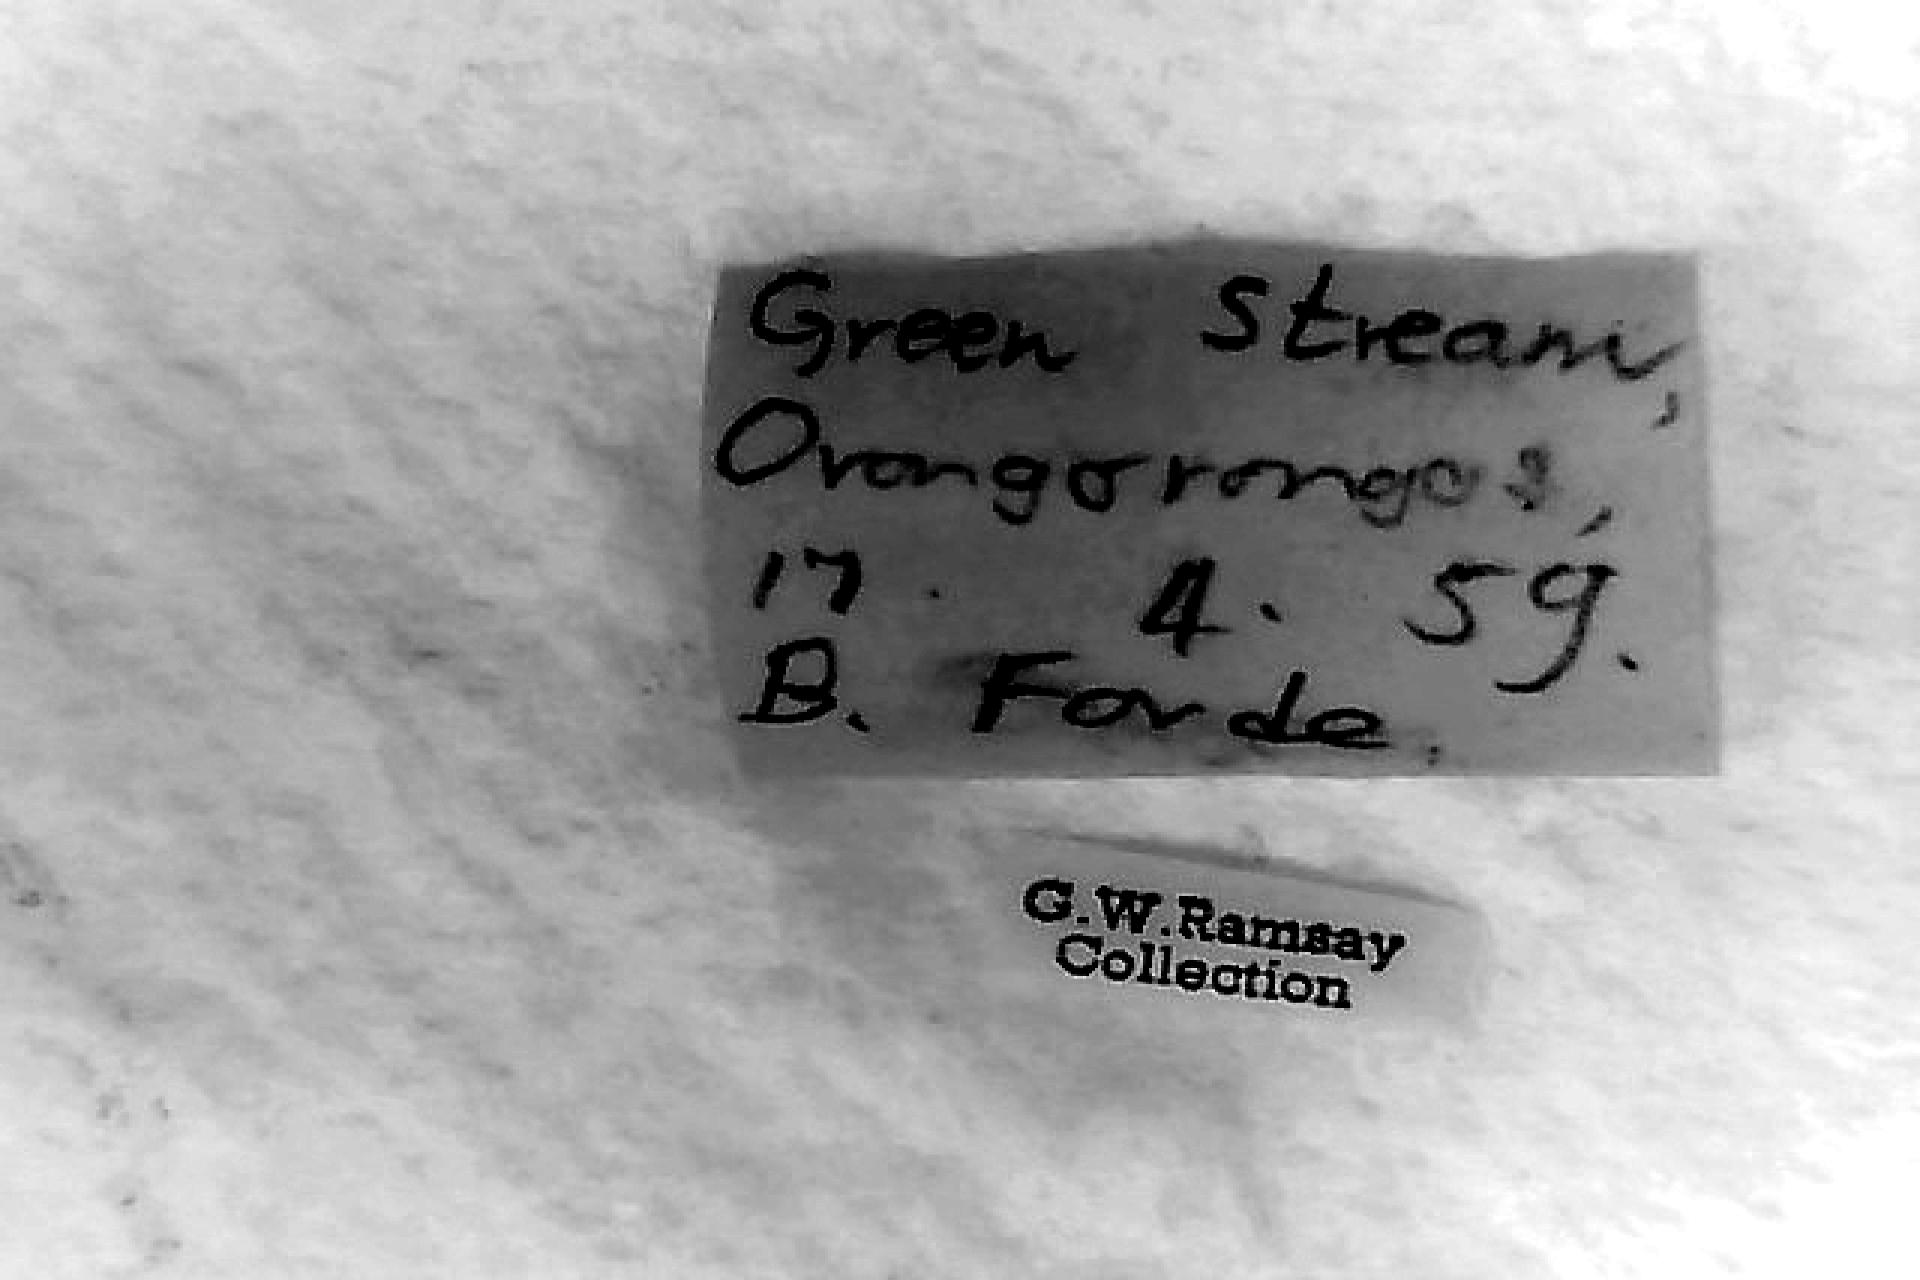hand_label: (706, 253, 1714, 777)
typed_label: (1001, 837, 1481, 1019)
